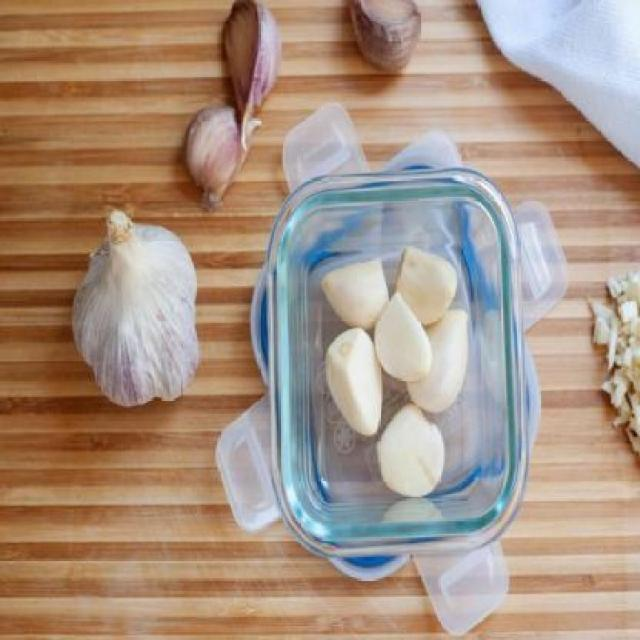garlic: (320, 247, 474, 498), (72, 208, 206, 410), (184, 0, 284, 205), (371, 402, 452, 498), (364, 292, 438, 383)
